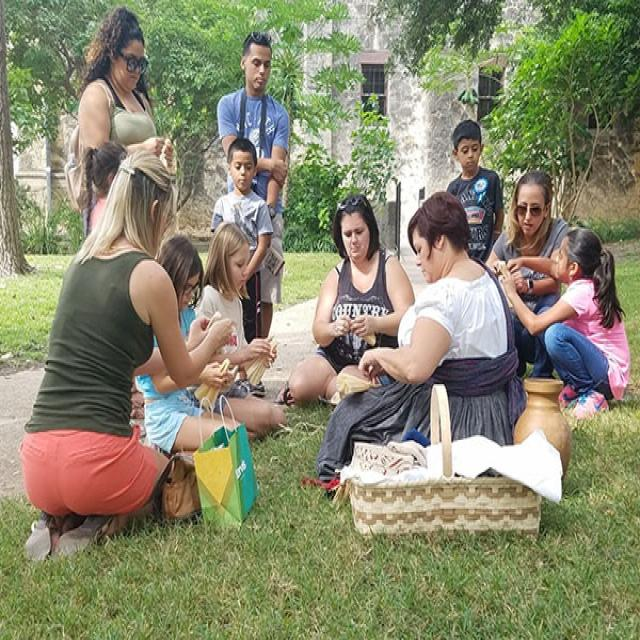body: (18, 142, 238, 576), (308, 189, 527, 475), (274, 190, 418, 410), (495, 218, 635, 422), (63, 5, 179, 240), (133, 232, 242, 456), (214, 29, 292, 342), (192, 218, 289, 443), (482, 168, 570, 381), (209, 134, 275, 400), (446, 117, 507, 264), (73, 136, 131, 243)
